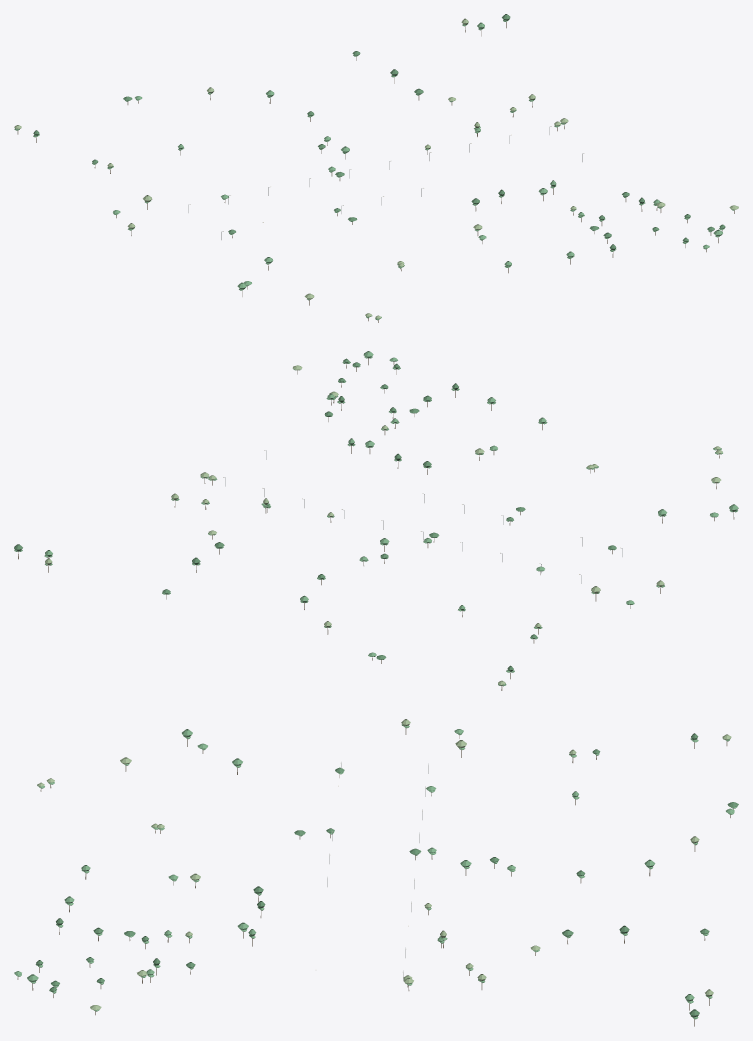
3 renders of one model, top to bottom at view 1: azimuth 30°, elevation 25°; view 2: azimuth 150°, elevation 25°; view 3: azimuth 270°, elevation 25°, orthographic. The views are drawn at different scales.
Parts seen in each view (by area): view 1: Shahbagh neighborhood furniture (approximate); view 2: Shahbagh neighborhood furniture (approximate); view 3: Shahbagh neighborhood furniture (approximate).
Boxes of the visible parts, bbox=[...] form: Shahbagh neighborhood furniture (approximate): bbox=[14, 14, 738, 322]; Shahbagh neighborhood furniture (approximate): bbox=[14, 351, 738, 690]; Shahbagh neighborhood furniture (approximate): bbox=[14, 719, 738, 1026].
Size of the model in its own units: 450 by 12.29 by 466.
